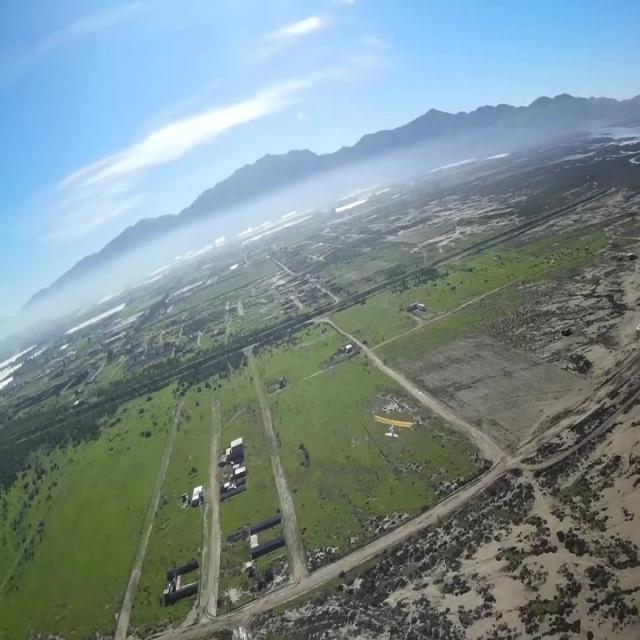iha: (366, 414, 411, 439)
